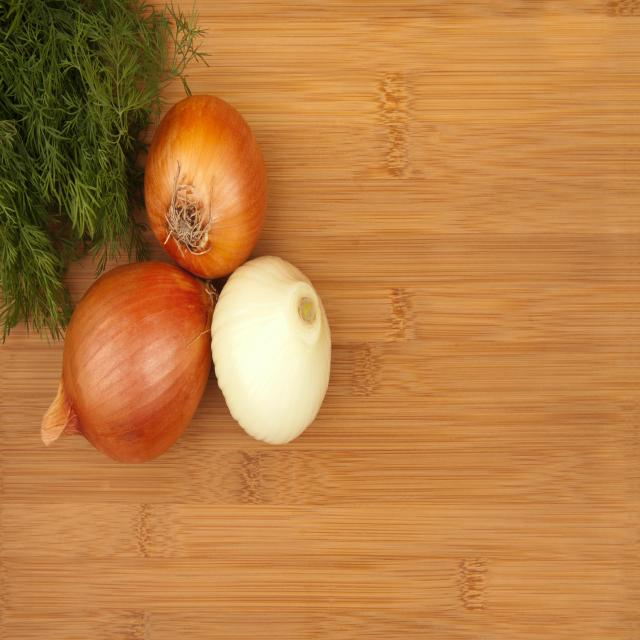onion: (64, 260, 212, 464), (211, 255, 332, 444), (144, 93, 267, 276)
